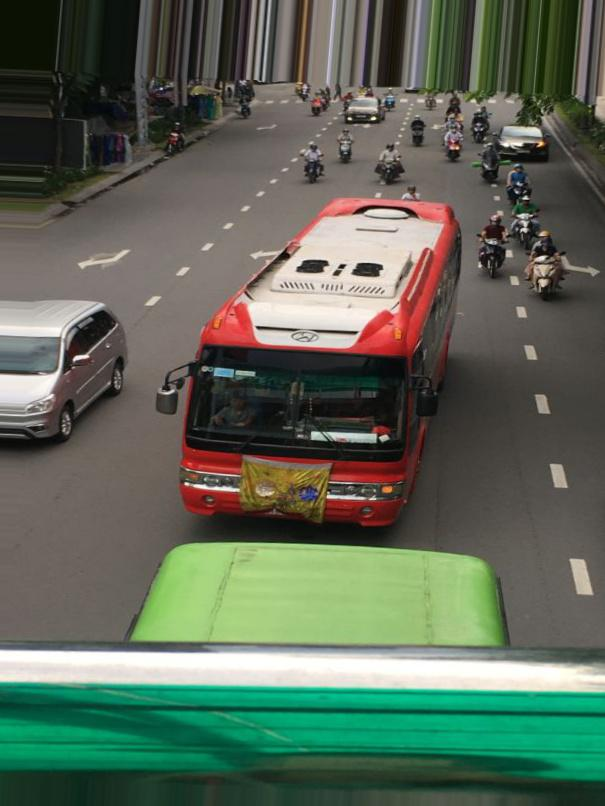bus: (168, 194, 462, 531)
car: (1, 296, 128, 444), (497, 125, 550, 166)
motorbike: (527, 250, 568, 300), (477, 234, 508, 276), (304, 146, 324, 183), (444, 132, 462, 163)
